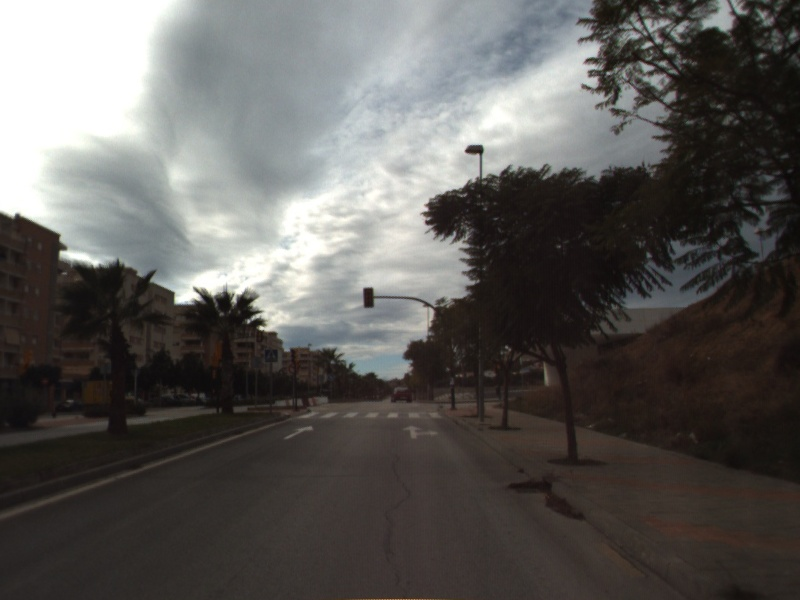STRAIGHT: (282, 423, 316, 441)
STRAIGHT_RIGHT: (400, 423, 440, 441)
